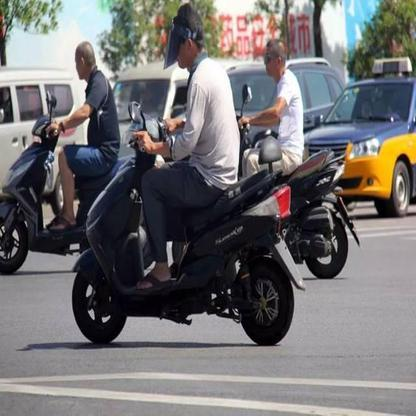target: (74, 4, 297, 347), (240, 38, 361, 279), (3, 43, 122, 277)
